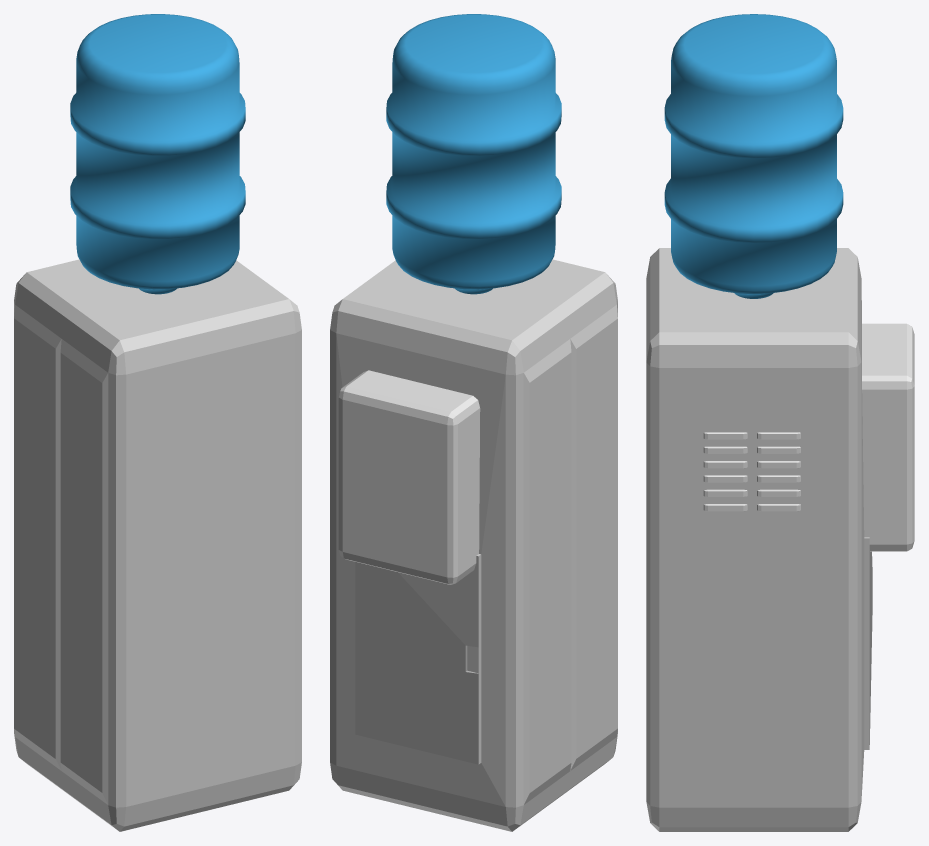
Rendered from WaterDispenser.fbx.
3 views of the same model, side by side, from view 1: azimuth 30°, elevation 25°; view 2: azimuth 150°, elevation 25°; view 3: azimuth 270°, elevation 25° (orthographic).
Parts seen in each view (by area): view 1: Base, Cylinder; view 2: Base, Cylinder, InsideSpace; view 3: Base, Cylinder, InsideSpace, Cube.002.
Part boxes in pixels (left/top/right/bottom): Base: left=14, top=259, right=301, bottom=831; Cylinder: left=70, top=14, right=245, bottom=294; Base: left=330, top=259, right=617, bottom=831; Cylinder: left=386, top=14, right=561, bottom=294; InsideSpace: left=338, top=370, right=480, bottom=584; Base: left=646, top=248, right=872, bottom=831; Cylinder: left=664, top=14, right=843, bottom=298; InsideSpace: left=862, top=323, right=914, bottom=551; Cube.002: left=703, top=432, right=800, bottom=511.
Bounding box in the file's own units: 150 × 529 × 173.
